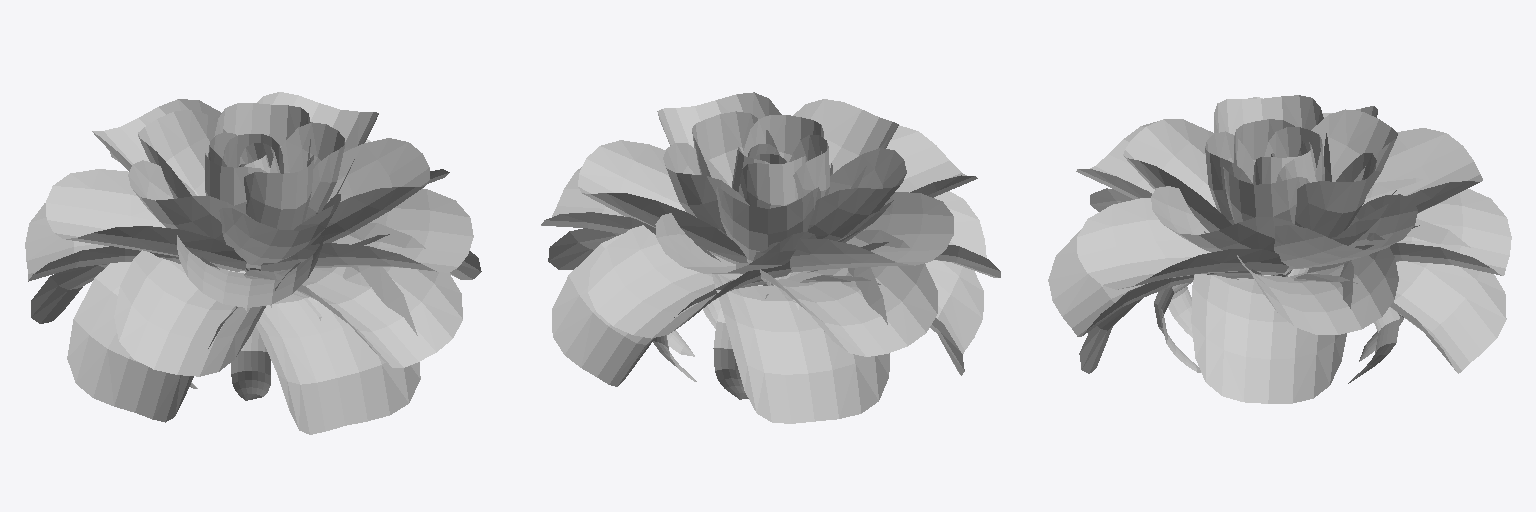
The model's file is FlowerTopModel_03_seq_0049.obj.
3 views of the same model, side by side, from view 1: azimuth 30°, elevation 25°; view 2: azimuth 150°, elevation 25°; view 3: azimuth 270°, elevation 25° (orthographic).
Parts seen in each view (by area): view 1: FlowerTopModel_03; view 2: FlowerTopModel_03; view 3: FlowerTopModel_03.
Part boxes in pixels (bbox=[...]): FlowerTopModel_03: bbox=[25, 92, 481, 434]; FlowerTopModel_03: bbox=[541, 92, 1000, 423]; FlowerTopModel_03: bbox=[1048, 95, 1511, 403].
Bounding box in the file's own units: 920 × 503 × 940.